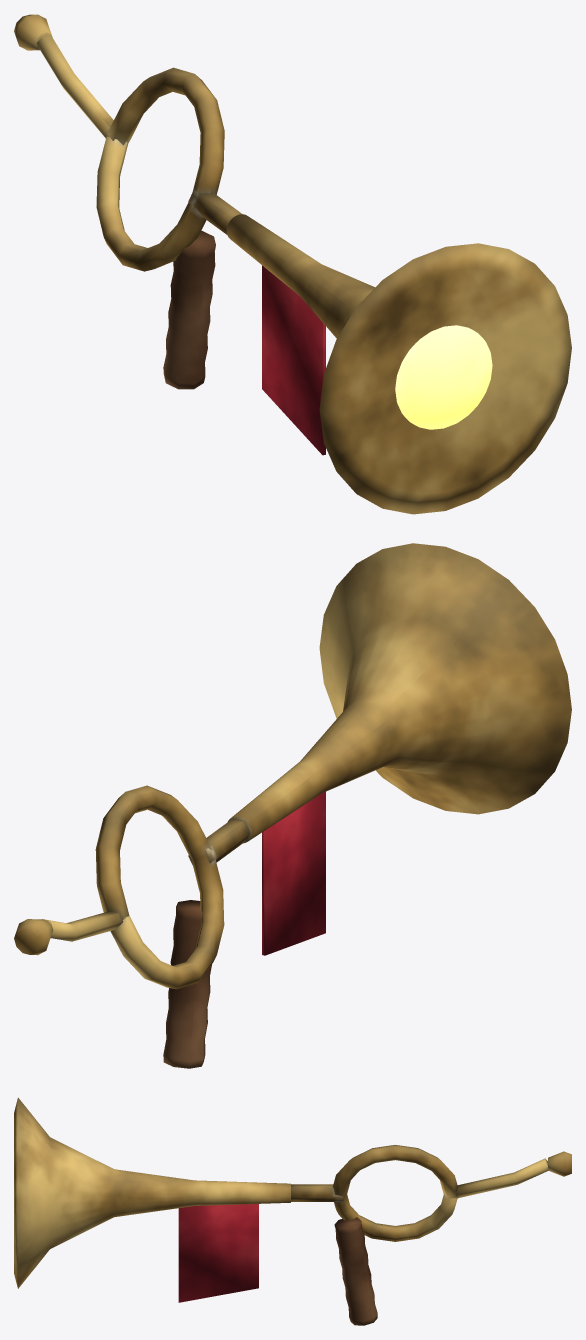
The model's file is BellHorn.fbx.
3 renders of one model, top to bottom at view 1: azimuth 30°, elevation 25°; view 2: azimuth 150°, elevation 25°; view 3: azimuth 270°, elevation 25°, orthographic. The views are drawn at different scales.
Parts seen in each view (by area): view 1: BellHorn; view 2: BellHorn; view 3: BellHorn.
Boxes of the visible parts, box(x1,y1,x2,y2) form: BellHorn: box(14, 14, 571, 514); BellHorn: box(14, 543, 571, 1068); BellHorn: box(14, 1097, 571, 1325).
Size of the model in its own units: 0.24 by 0.2967 by 0.695.
